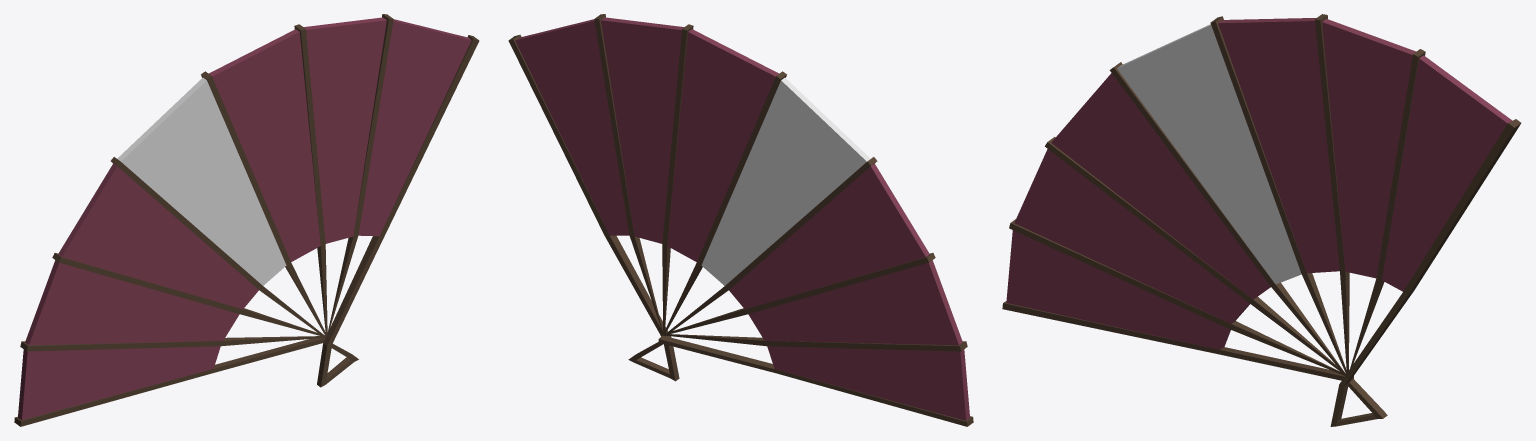
Rendered from GEO_fan.fbx.
3 renders of one model, left to right at view 1: azimuth 30°, elevation 25°; view 2: azimuth 150°, elevation 25°; view 3: azimuth 330°, elevation 25°, orthographic. The views are drawn at different scales.
Parts seen in each view (by area): view 1: Vifte; view 2: Vifte; view 3: Vifte.
Boxes of the visible parts, <box> form: Vifte: <box>14,14,479,426</box>; Vifte: <box>508,14,973,426</box>; Vifte: <box>1002,14,1521,426</box>.
Bounding box in the file's own units: 109 × 81.21 × 3.89.
